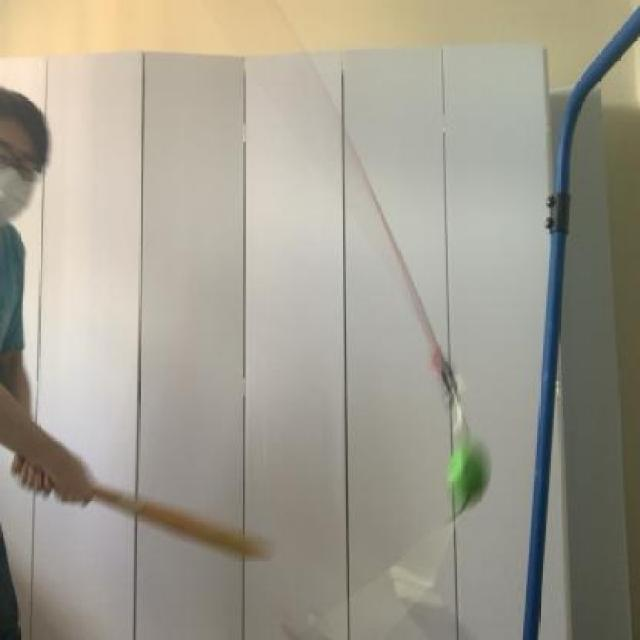baseball: (436, 415, 507, 520)
